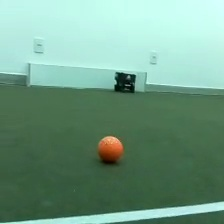ball: (94, 133, 125, 165)
goal: (24, 62, 149, 95)
robot: (112, 70, 136, 94)
